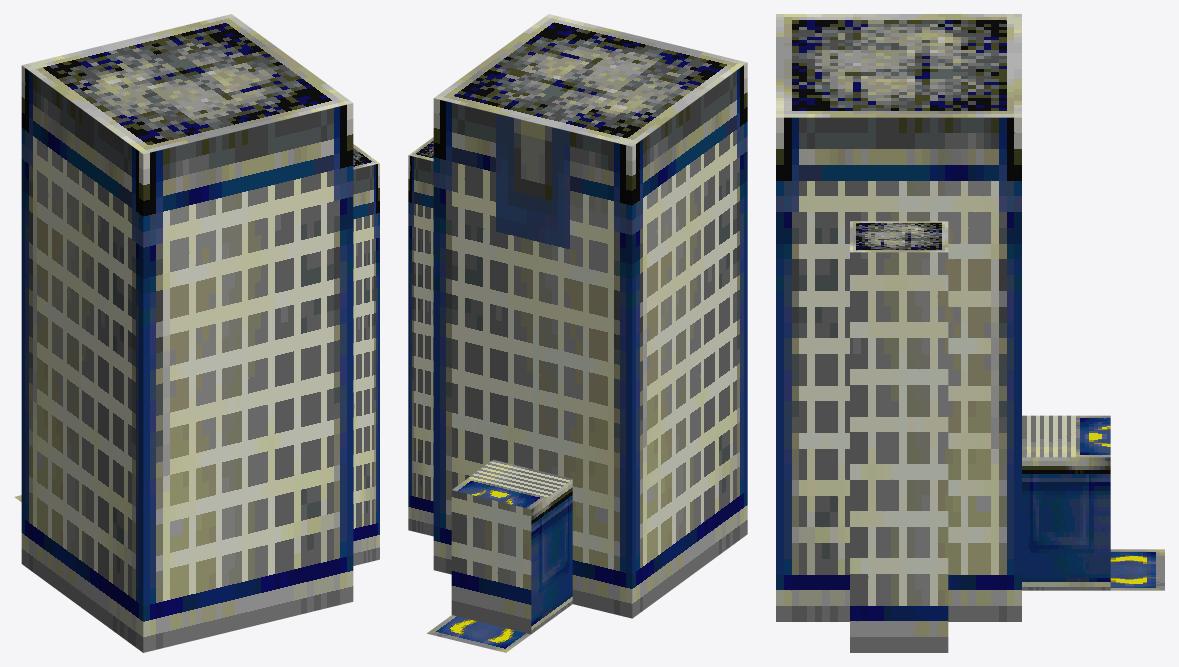
Rendered from ResearchFacilityY_Anim.glb.
The picture shows the model from 3 angles, left to right: view 1: azimuth 30°, elevation 25°; view 2: azimuth 150°, elevation 25°; view 3: azimuth 270°, elevation 25°; orthographic projection. The views are drawn at different scales.
Visible parts, largest first — view 1: ResearchFacilityY_Anim_part00; view 2: ResearchFacilityY_Anim_part00; view 3: ResearchFacilityY_Anim_part00.
Part boxes in pixels (x1,y1,x2,y2): ResearchFacilityY_Anim_part00: (14, 14, 379, 652); ResearchFacilityY_Anim_part00: (408, 14, 747, 652); ResearchFacilityY_Anim_part00: (776, 14, 1164, 652).
Size of the model in its own units: 21.74 by 37.94 by 26.5.
Materials: 5 (5 with a texture image).
